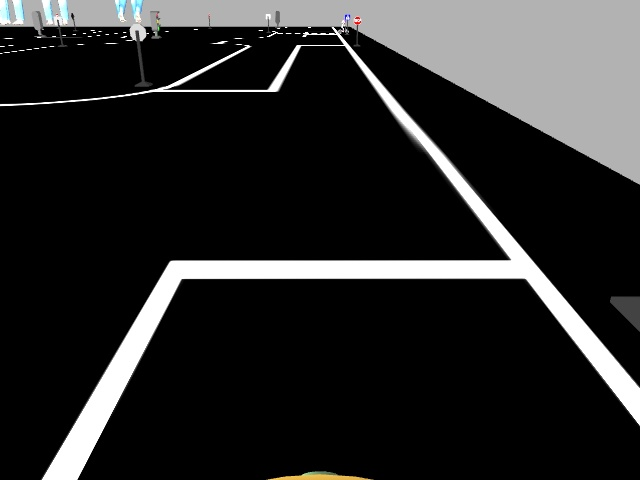TrafficLight: (148, 10, 161, 33)
